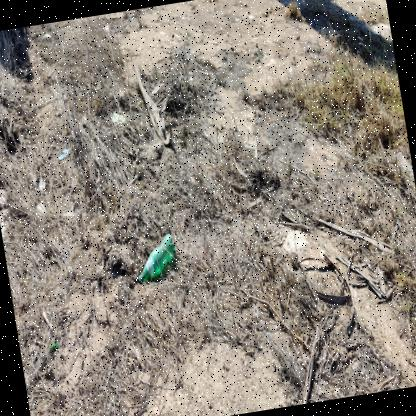Clear plastic bottle: (137, 233, 176, 284)
Other plastic bottle: (47, 341, 58, 349)
Plastic bottle cap: (137, 276, 142, 284)
Plastic film: (0, 189, 7, 208)
Unlabeled litter: (112, 111, 127, 123), (57, 147, 68, 160)
